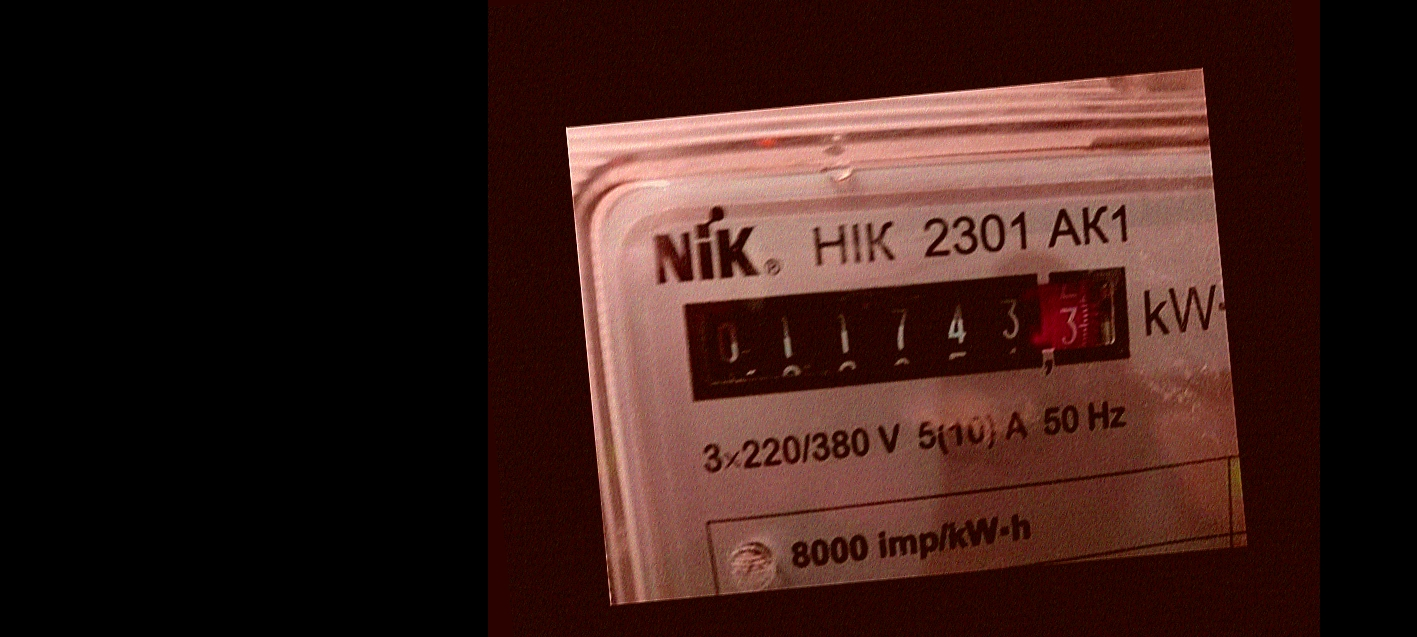0: (708, 318, 742, 367)
1: (828, 308, 853, 358), (773, 314, 794, 363)
3: (991, 294, 1024, 344), (1052, 303, 1080, 349)
4: (937, 298, 970, 349)
7: (884, 305, 912, 355)
screen: (664, 253, 1139, 414)
